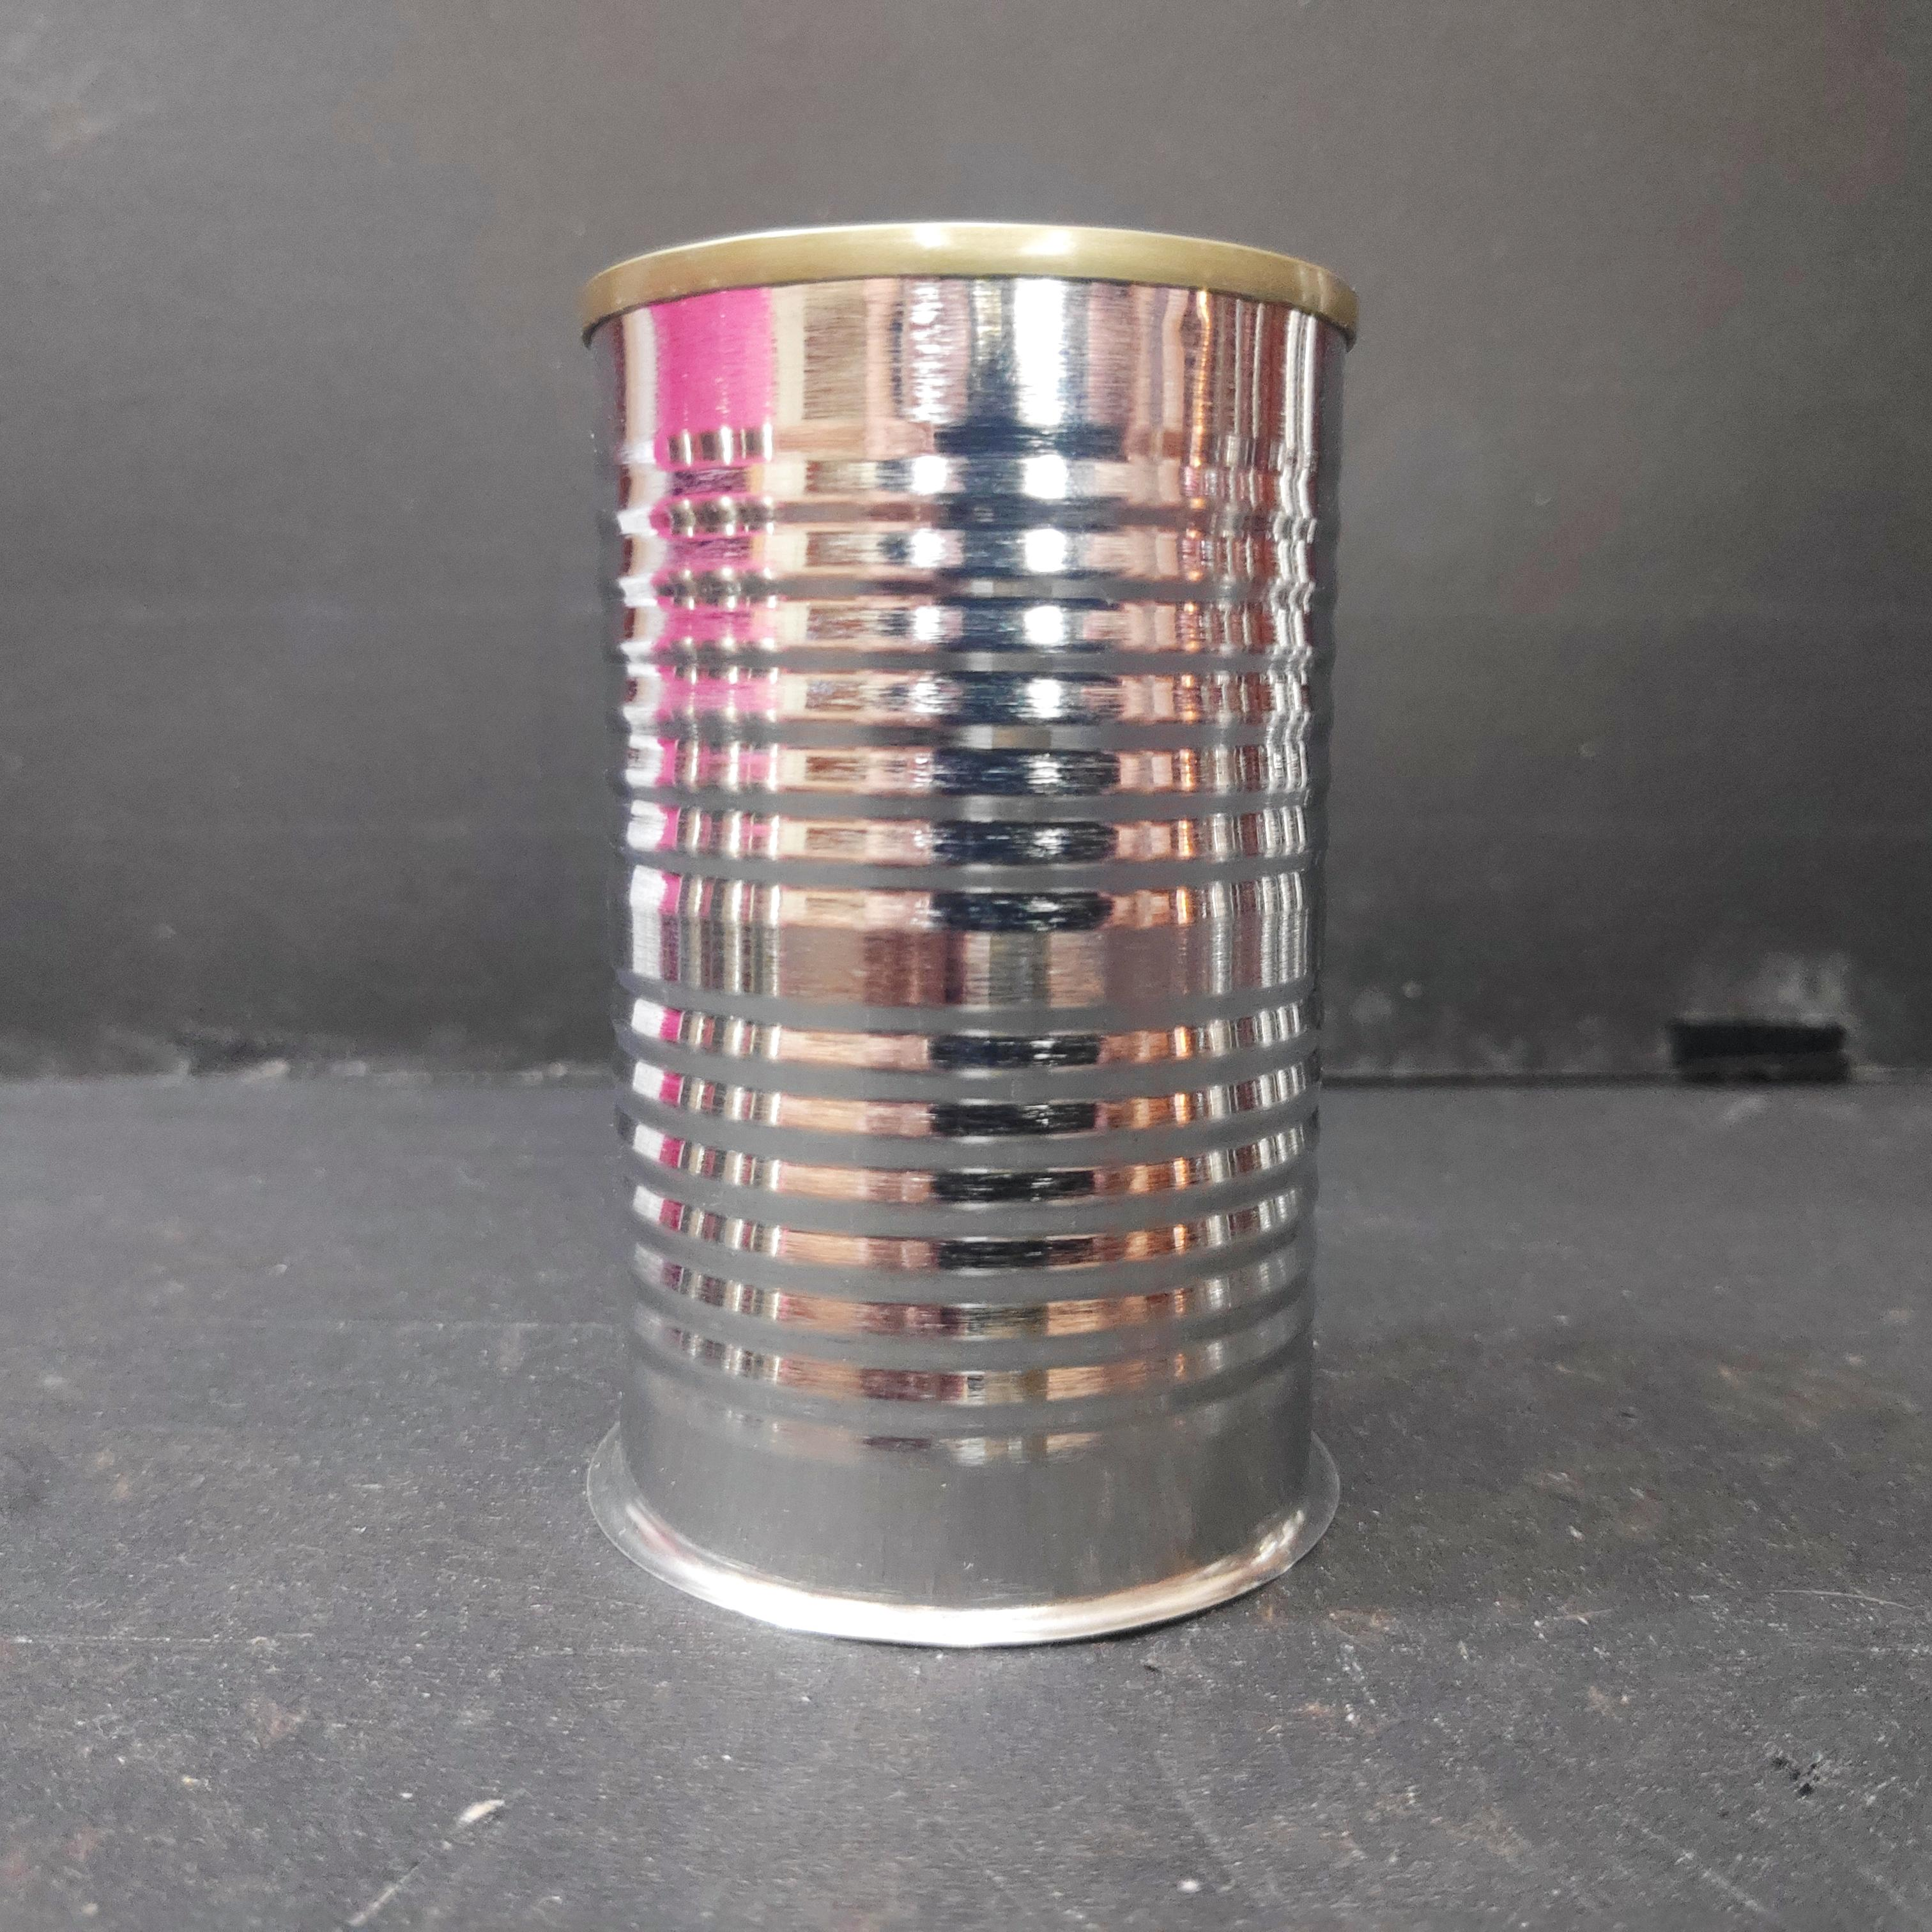No defect: (566, 209, 1369, 1661)
